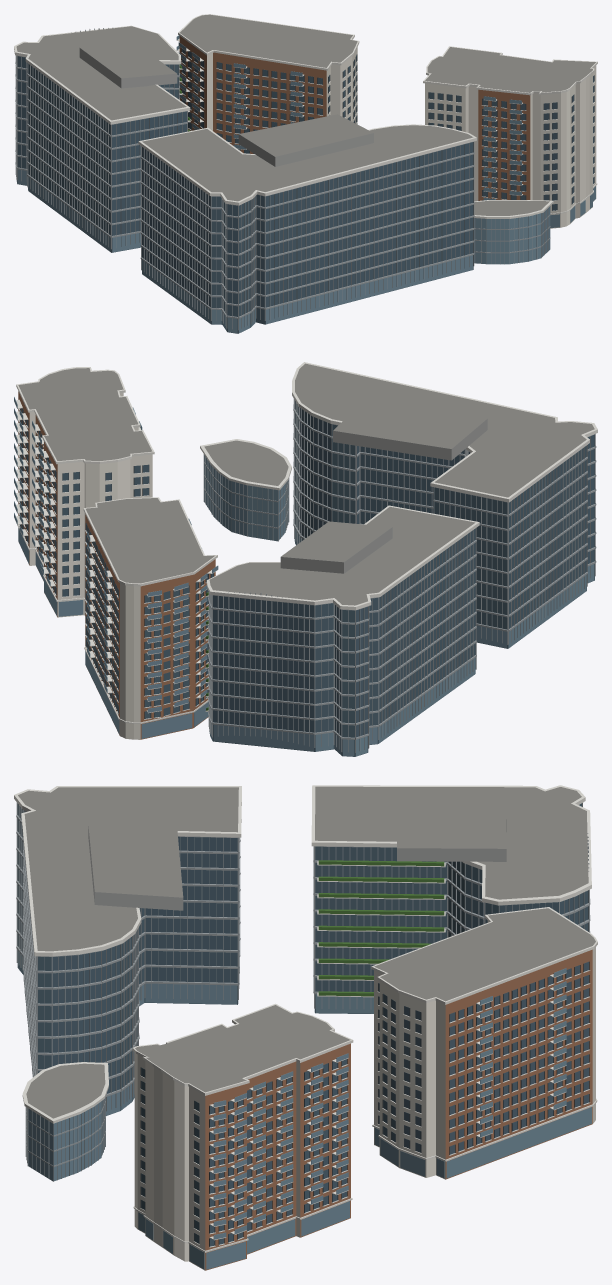
The model's file is sheldon_square.glb.
The picture shows the model from 3 angles, top to bottom: view 1: azimuth 30°, elevation 25°; view 2: azimuth 150°, elevation 25°; view 3: azimuth 270°, elevation 25°; orthographic projection. The views are drawn at different scales.
Bounding box in the file's own units: 145 × 52.23 × 126.
